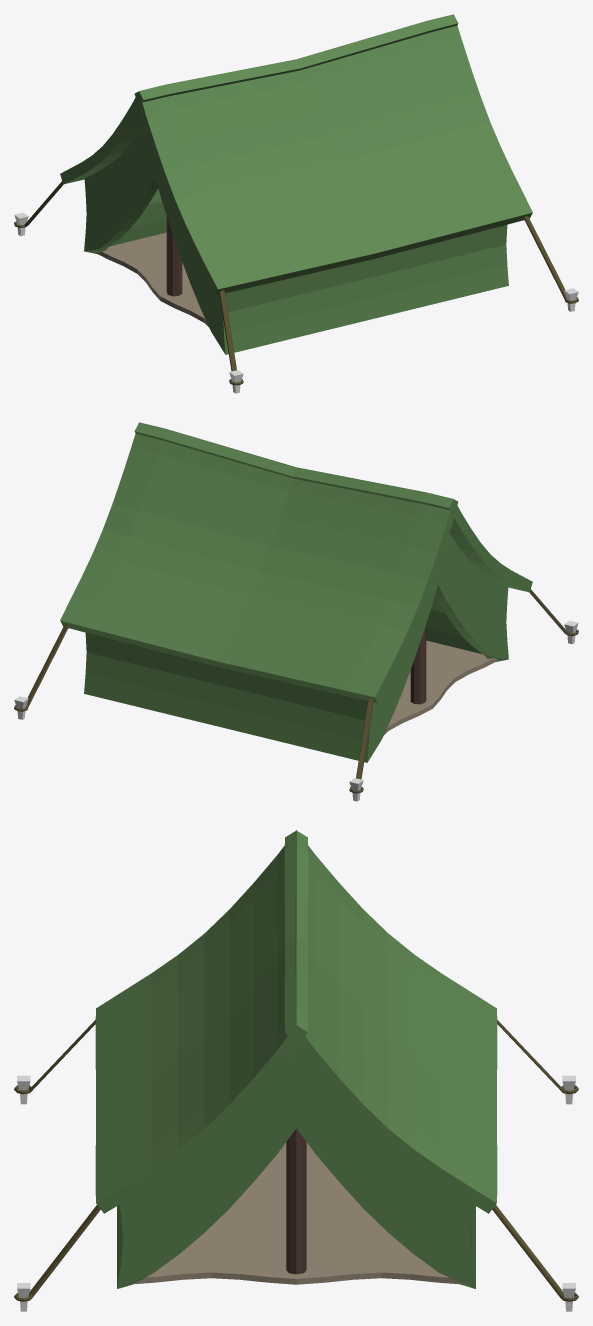
Rendered from Tent.fbx.
3 views of the same model, one above another, from view 1: azimuth 30°, elevation 25°; view 2: azimuth 150°, elevation 25°; view 3: azimuth 270°, elevation 25° (orthographic). The views are drawn at different scales.
Visible parts, largest first — view 1: Tent; view 2: Tent; view 3: Tent.
Boxes of the visible parts, x1,y1,x2,y2 form: Tent: (14, 14, 578, 393); Tent: (14, 422, 578, 801); Tent: (14, 830, 578, 1311).
Bounding box in the file's own units: 423 × 231 × 382.
